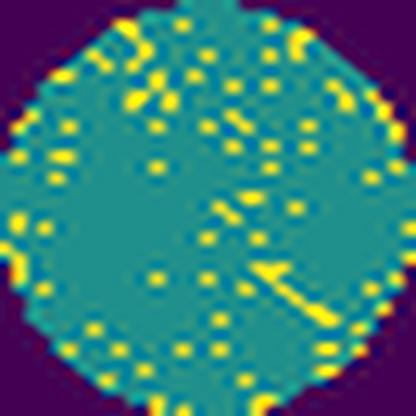Scratch: (246, 258, 345, 335), (108, 17, 162, 77)
